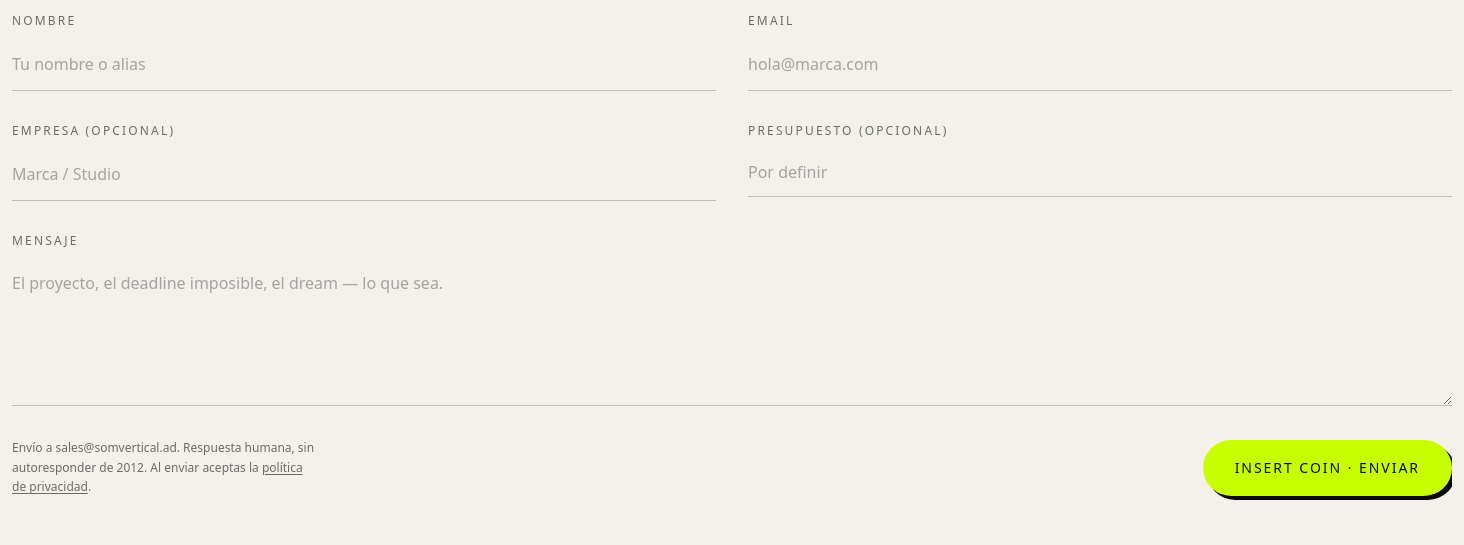
it: ContactForm › email inválido muestra error de formato sin enviar
The width and height of the screenshot is (1464, 545).
Type "Ada" into the field labelled "Nombre". click: (364, 64)
box: [12,38,716,91]
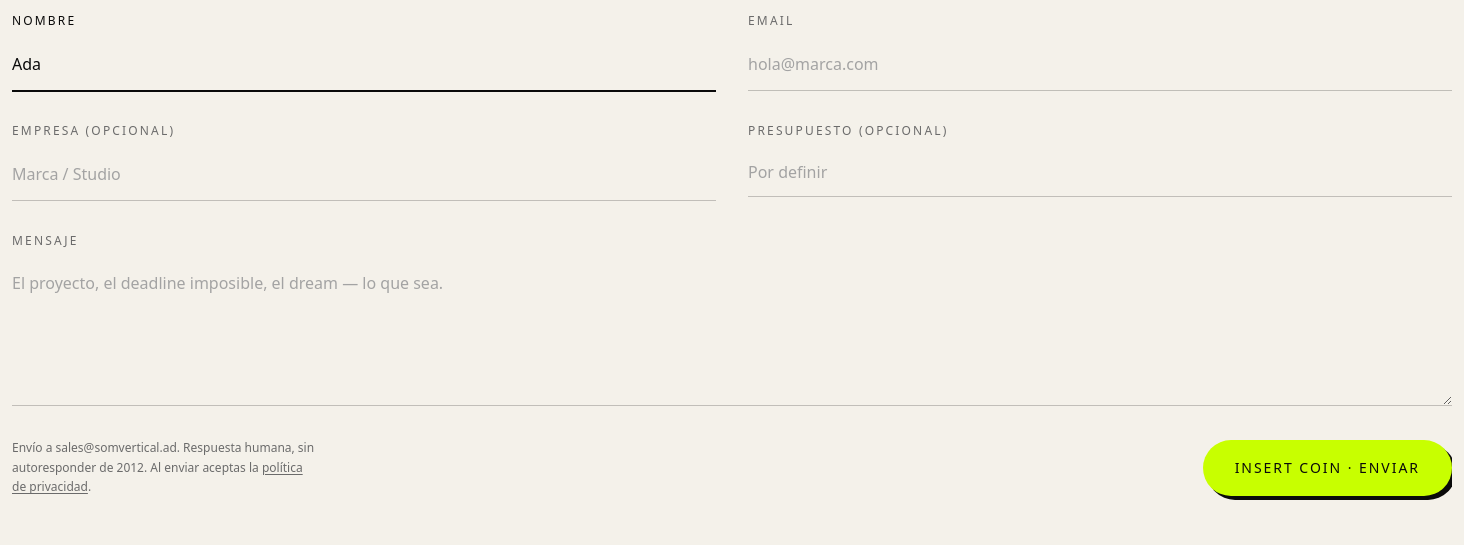
Type "no-es-un-email" into the field labelled "Email". click: (1100, 64)
box: [748,38,1452,91]
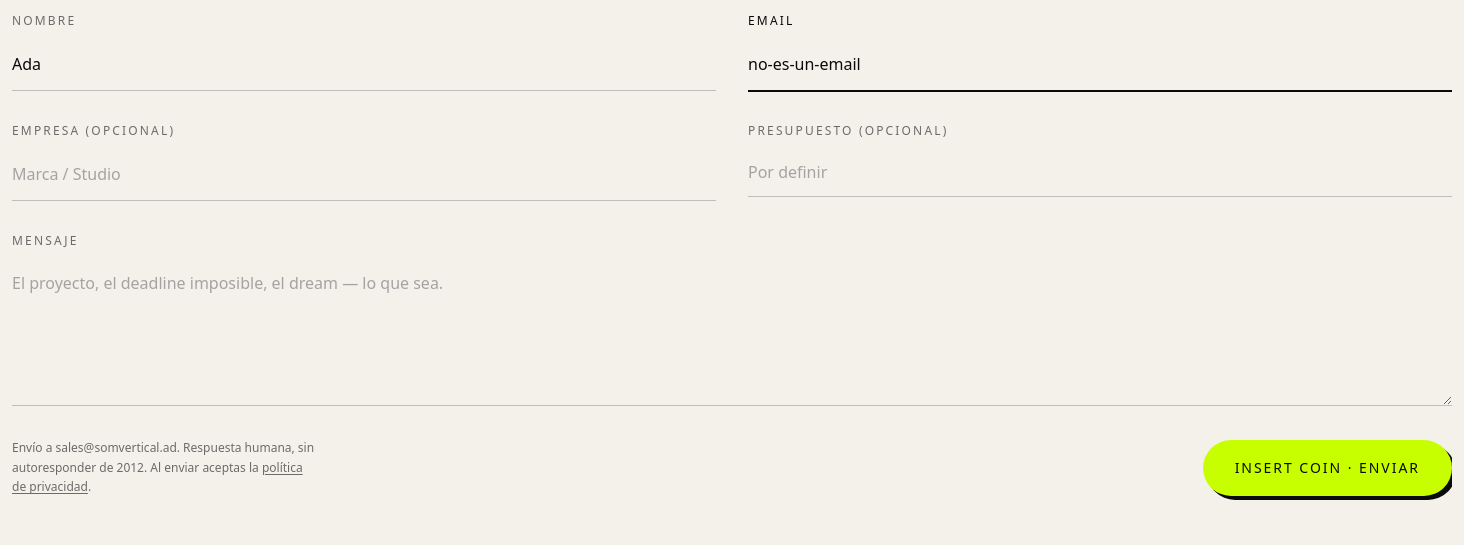
Type "Proyecto con craft, por favor." into the text box labelled "Mensaje". click: (732, 332)
box: [12,257,1452,406]
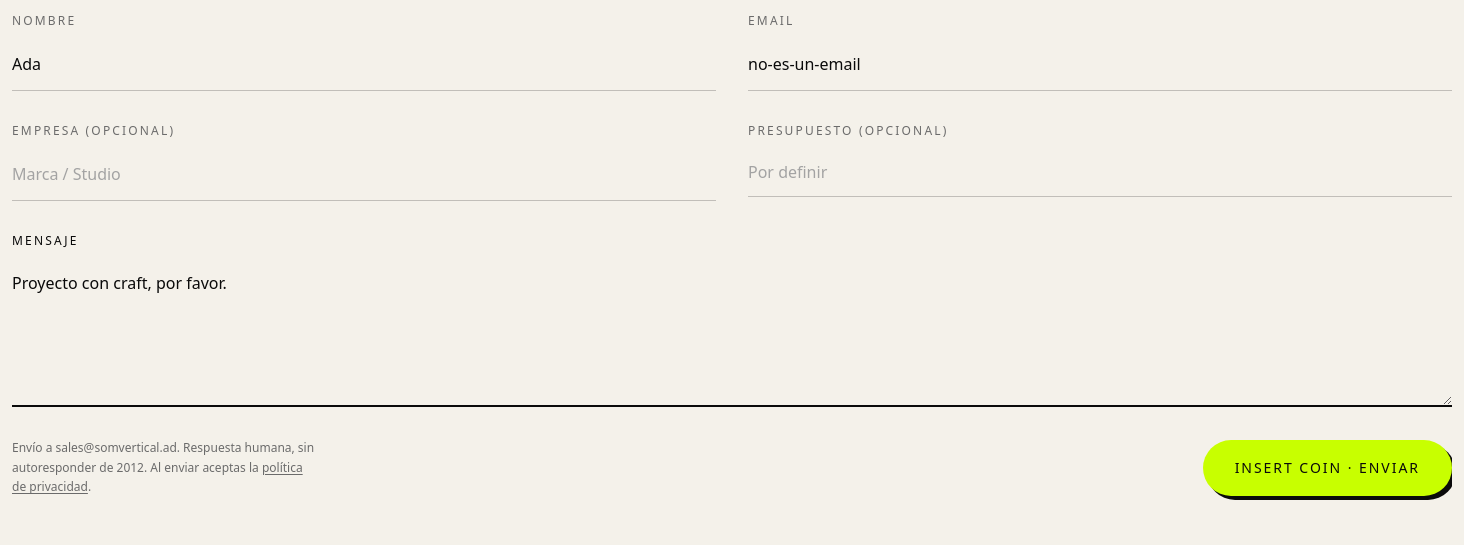
Click the button "Insert coin · Enviar". click: (1327, 468)
box: [1203,440,1452,496]
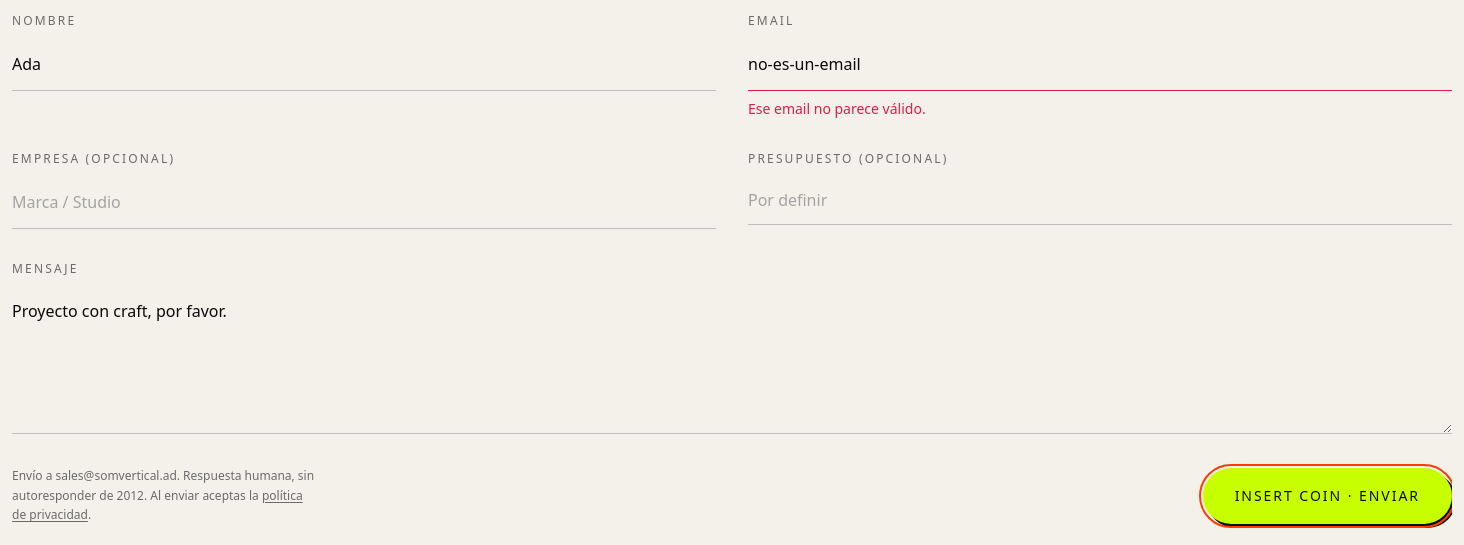
Expected: the text "Ese email no parece válido." is shown, [748,99,926,118]
